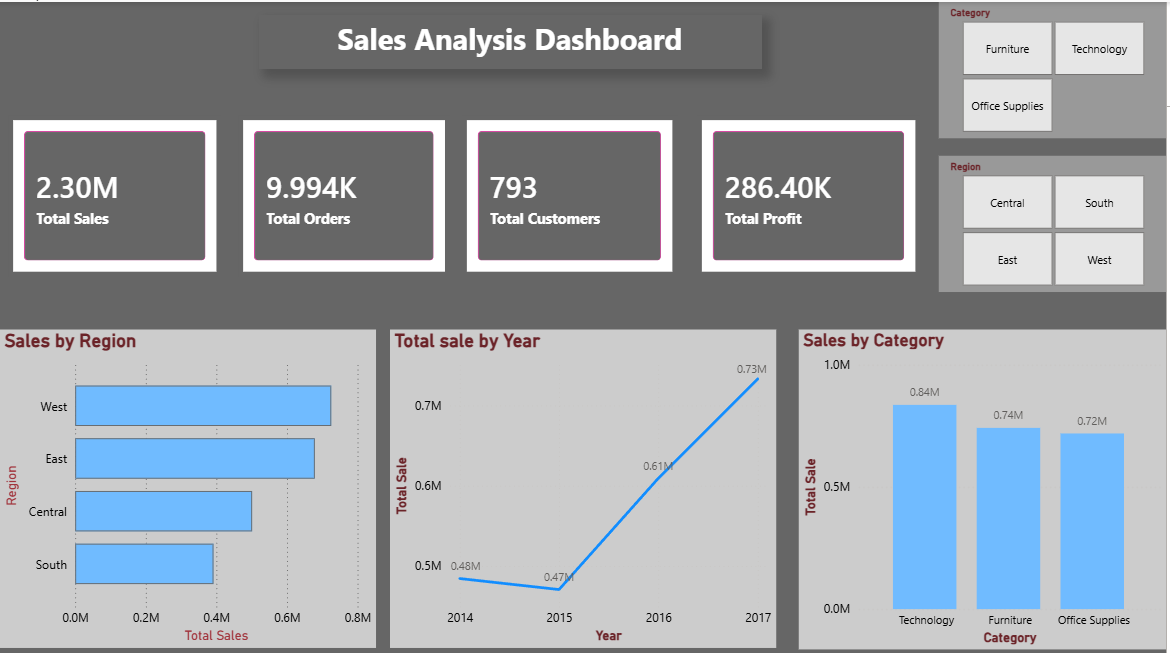

The dashboard page shown, as its layout file describes it:
{"tool":"powerbi","page":{"name":"Sales_Dashboard","canvas":[1280,720],"ordinal":0},"visuals":[{"type":"cardVisual","fields":{"Data":["Sum(superstore.Sales)"]},"box":[9.8,124.9,233,176.9],"z":0},{"type":"cardVisual","fields":{"Data":["Count(superstore.Customer_ID)"]},"box":[508.2,124.9,235.8,176.9],"z":1000},{"type":"cardVisual","fields":{"Data":["CountNonNull(superstore.OrderID)"]},"box":[262.5,124.9,231.6,176.9],"z":2000},{"type":"cardVisual","fields":{"Data":["Sum(superstore.Profit)"]},"box":[765.1,124.9,244.3,176.9],"z":3000},{"type":"clusteredBarChart","title":"Sales by Region","fields":{"Category":["superstore.Region"],"Y":["Sum(superstore.Sales)"]},"box":[0,359.4,412.7,349.6],"z":4000},{"type":"lineChart","title":"Total sale by Year","fields":{"Category":["superstore.Order_Date.Variation.Date Hierarchy.Year","superstore.Order_Date.Variation.Date Hierarchy.Quarter","superstore.Order_Date.Variation.Date Hierarchy.Month"],"Y":["Sum(superstore.Sales)"]},"box":[428.2,359.4,424,349.6],"z":5000},{"type":"slicer","fields":{"Values":["superstore.Category"]},"box":[1030.4,0,249.9,149.4],"z":6000},{"type":"slicer","fields":{"Values":["superstore.Region"]},"box":[1030.4,168.9,249.9,149.4],"z":7000},{"type":"clusteredColumnChart","title":" Sales by Category","fields":{"Category":["superstore.Category"],"Y":["Sum(superstore.Sales)"]},"box":[877.4,359.4,402.9,351],"z":8000},{"type":"textbox","box":[283.6,14,551.7,60.4],"z":8001}]}

Visuals, with their boxes in screenshot pixels (x1, y1, x2, y2), scaled from the page's 1280x720 canvas onto the 1170x653 screenshot:
cardVisual - Sum(superstore.Sales): [left=9, top=113, right=222, bottom=274]
cardVisual - Count(superstore.Customer_ID): [left=465, top=113, right=680, bottom=274]
cardVisual - CountNonNull(superstore.OrderID): [left=240, top=113, right=452, bottom=274]
cardVisual - Sum(superstore.Profit): [left=699, top=113, right=923, bottom=274]
"Sales by Region" clusteredBarChart: [left=0, top=326, right=377, bottom=643]
"Total sale by Year" lineChart: [left=391, top=326, right=779, bottom=643]
slicer - superstore.Category: [left=942, top=0, right=1169, bottom=135]
slicer - superstore.Region: [left=942, top=153, right=1169, bottom=289]
" Sales by Category" clusteredColumnChart: [left=802, top=326, right=1169, bottom=644]
textbox: [left=259, top=13, right=764, bottom=67]
